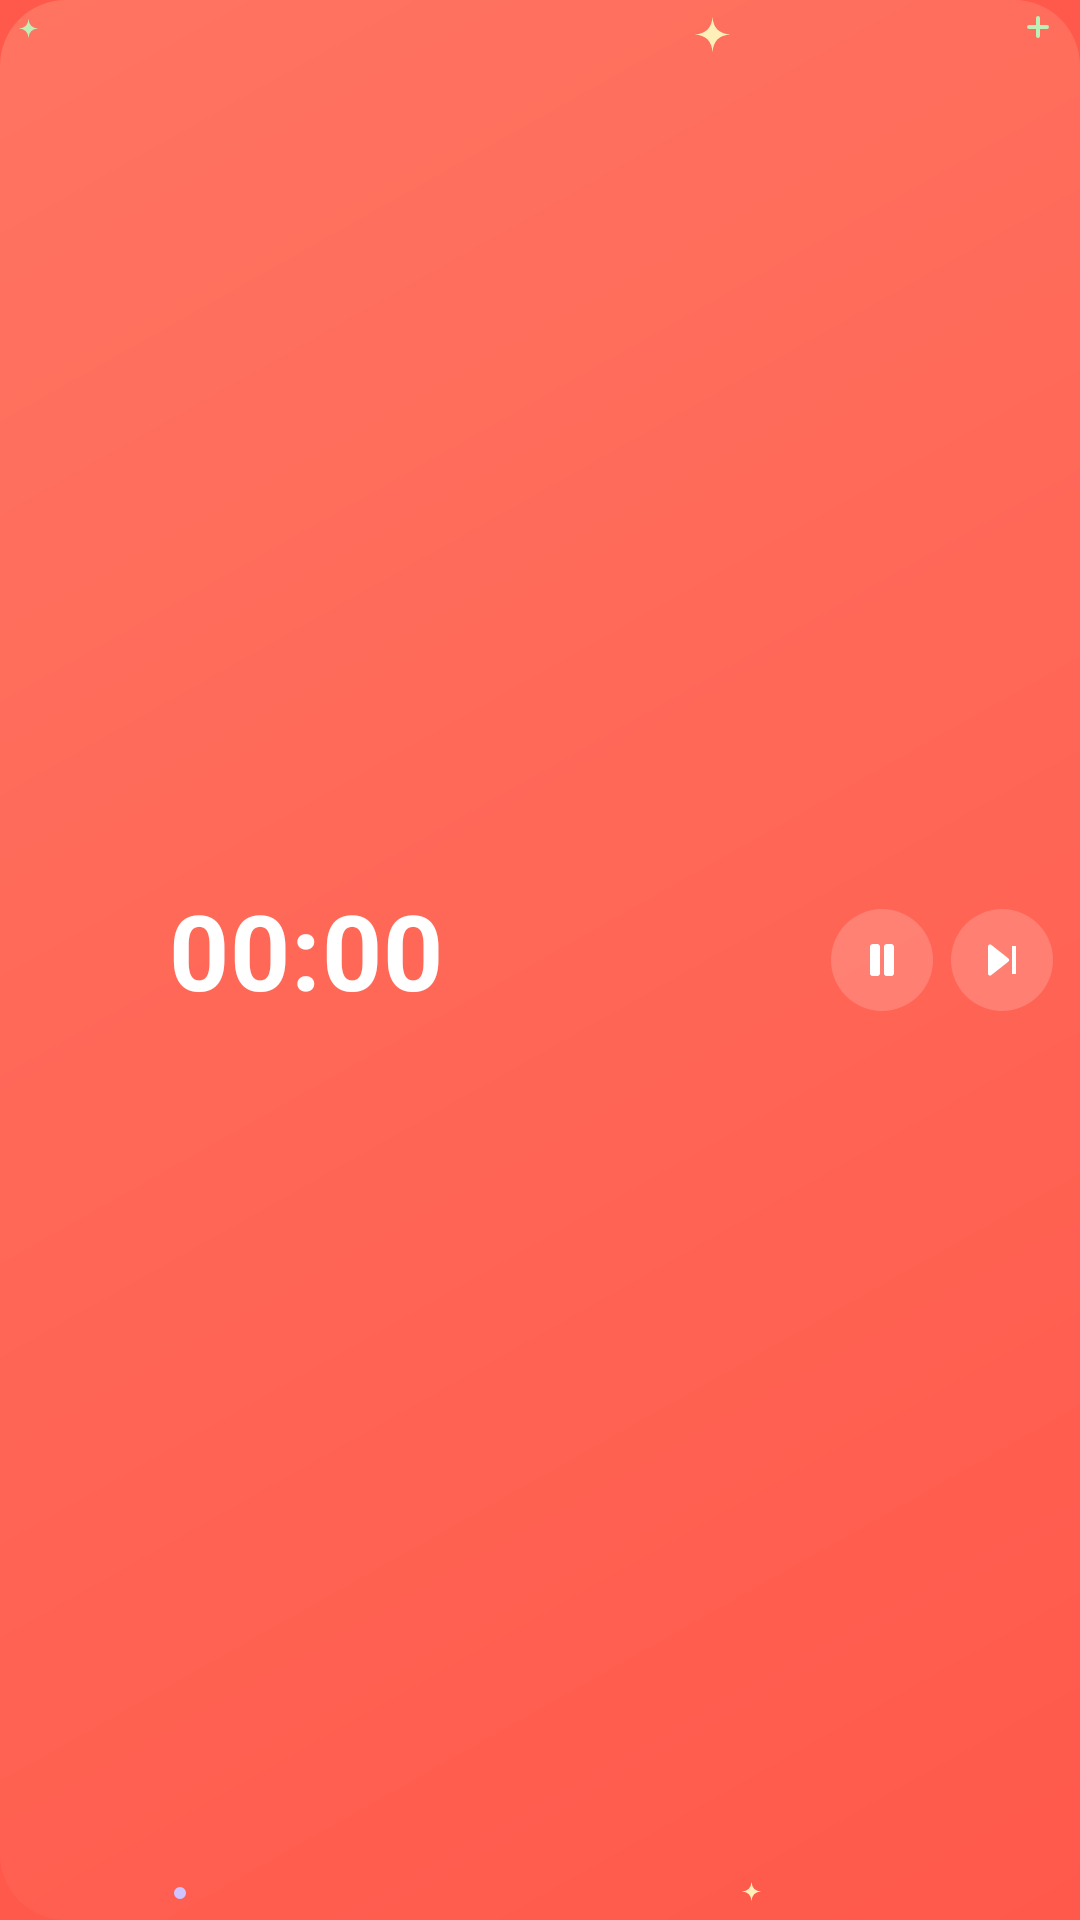

Where to tap for icons on this 1080 x 1920 app screen, as [x,y]:
건너뛰기: [1002,960]
재생 또는 멈춤: [882,960]
